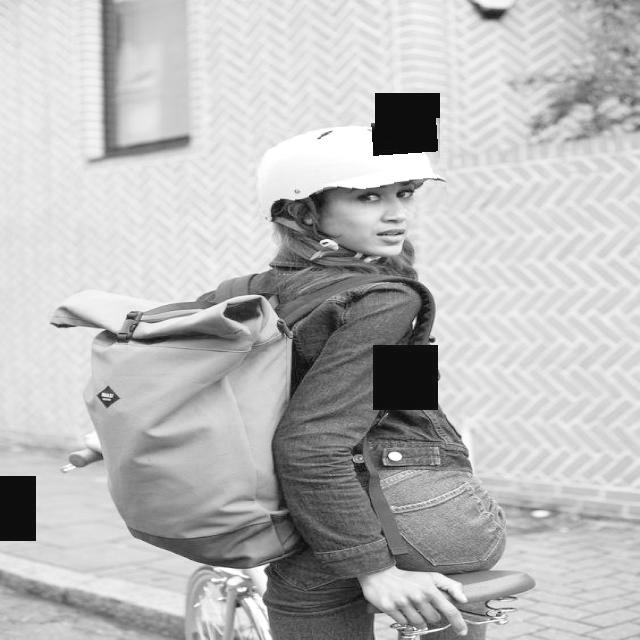helmet: (255, 122, 447, 220)
